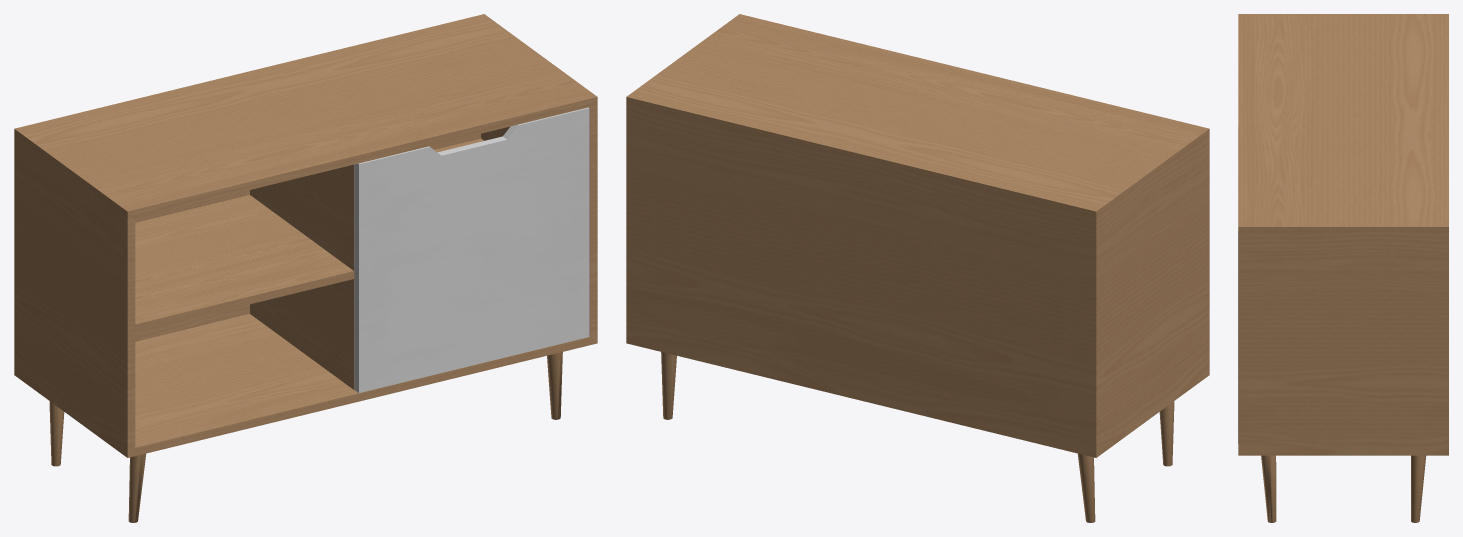
Rendered from tv_stand.glb.
3 renders of one model, left to right at view 1: azimuth 30°, elevation 25°; view 2: azimuth 150°, elevation 25°; view 3: azimuth 270°, elevation 25°, orthographic. The views are drawn at different scales.
Parts seen in each view (by area): view 1: TV Stand; view 2: TV Stand; view 3: TV Stand.
Boxes of the visible parts, x1,y1,x2,y2 form: TV Stand: (14,14,597,522); TV Stand: (626,14,1209,522); TV Stand: (1238,14,1448,522).
Size of the model in its own units: 1.2 by 0.8009 by 0.5015.
Materials: 1 (1 with a texture image).
